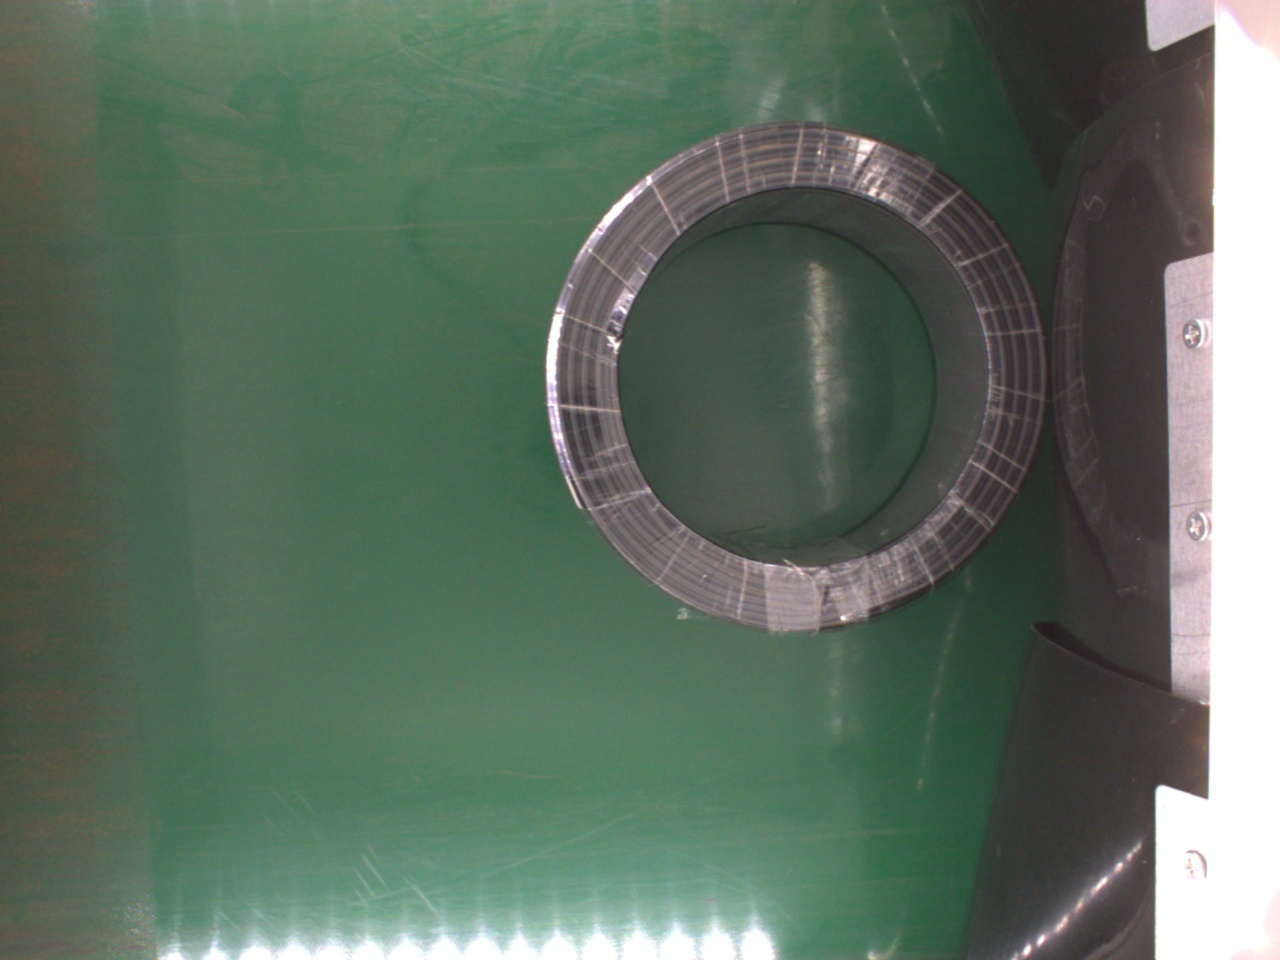black: (539, 115, 1046, 639)
